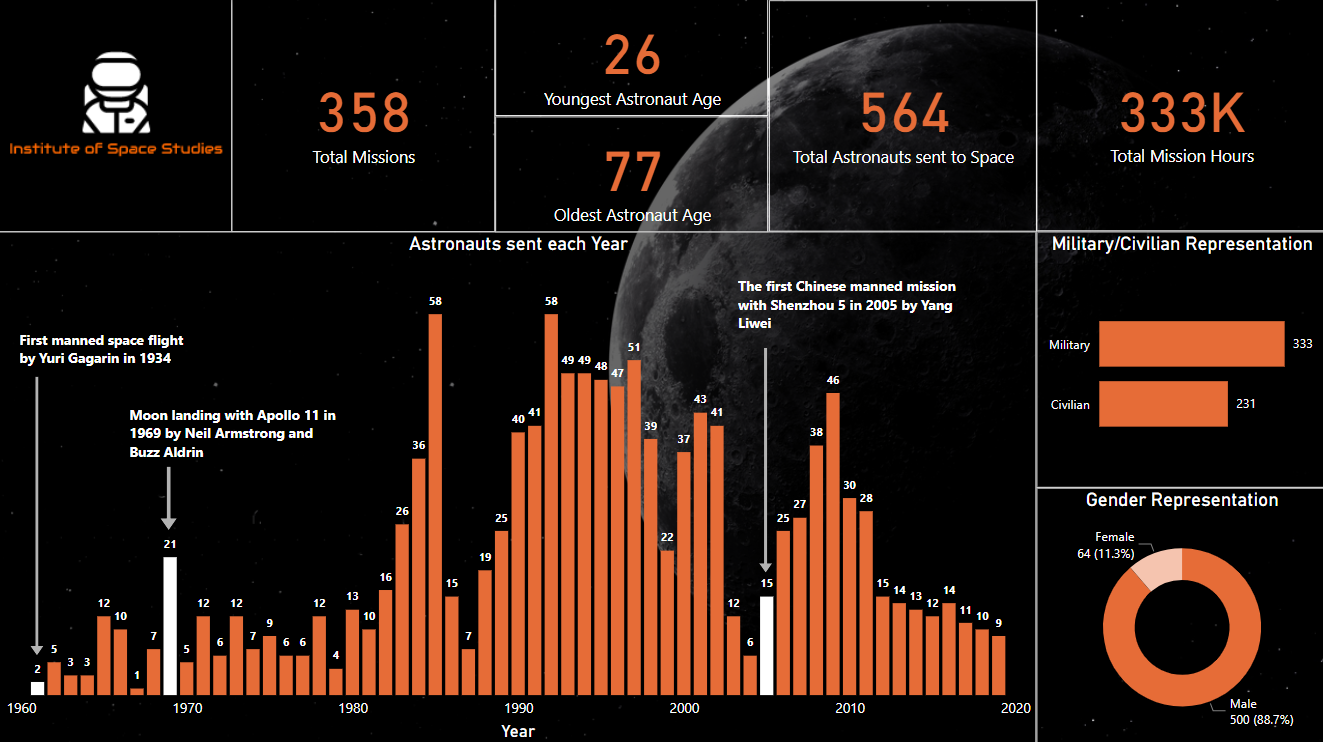

Layout of this report page (visuals, bound fields, positions):
{"tool":"powerbi","page":{"name":"Dashboard","canvas":[1280,720],"ordinal":0},"visuals":[{"type":"image","box":[0,0,224.9,224.9],"z":0},{"type":"card","fields":{"Values":["astronauts.mission_title"]},"box":[224.9,0,254.3,224.9],"z":1000},{"type":"card","fields":{"Values":["astronauts.Age of astronaut"]},"box":[478.8,0,263.6,113],"z":2000},{"type":"card","fields":{"Values":["astronauts.Age of astronaut"]},"box":[478.8,113,263.6,111.6],"z":3000},{"type":"barChart","title":"Military/Civilian Representation","fields":{"Category":["names.Military/Civilian"],"Y":["astronauts.name"]},"box":[1001,224.3,279.8,247.2],"z":4000},{"type":"card","fields":{"Values":["astronauts.name"]},"box":[742.9,1.2,258.1,223.1],"z":5000},{"type":"donutChart","title":"Gender Representation","fields":{"Y":["astronauts.name"],"Category":["astronauts.sex"]},"box":[1000.5,472,279.7,247.4],"z":6000},{"type":"card","fields":{"Values":["Mission.Hours"]},"box":[1001,0,279.8,224.3],"z":7000},{"type":"clusteredColumnChart","title":"Astronauts sent each Year","fields":{"Y":["astronauts.name"],"Category":["astronauts.year_of_mission"]},"box":[0,224.6,1000.5,494.9],"z":8000},{"type":"shape","box":[30,363.7,12.9,269.1],"z":9000},{"type":"shape","box":[155.7,451.4,16.3,61.4],"z":10000},{"type":"shape","box":[733.7,336.9,12.9,217.1],"z":11000},{"type":"textbox","box":[14.6,315.1,181.4,54.3],"z":12000},{"type":"textbox","box":[120.6,386.9,215.7,65.7],"z":13000},{"type":"textbox","box":[708,263.4,225.7,78.6],"z":14000}]}

Visuals, with their boxes in screenshot pixels (x1, y1, x2, y2), scaled from the page's 1280x720 canvas onto the 1323x742 screenshot:
image: [x1=0, y1=0, x2=232, y2=232]
card - astronauts.mission_title: [x1=232, y1=0, x2=495, y2=232]
card - astronauts.Age of astronaut: [x1=495, y1=0, x2=767, y2=116]
card - astronauts.Age of astronaut: [x1=495, y1=116, x2=767, y2=231]
"Military/Civilian Representation" barChart: [x1=1035, y1=231, x2=1322, y2=486]
card - astronauts.name: [x1=768, y1=1, x2=1035, y2=231]
"Gender Representation" donutChart: [x1=1034, y1=486, x2=1322, y2=741]
card - Mission.Hours: [x1=1035, y1=0, x2=1322, y2=231]
"Astronauts sent each Year" clusteredColumnChart: [x1=0, y1=231, x2=1034, y2=741]
shape: [x1=31, y1=375, x2=44, y2=652]
shape: [x1=161, y1=465, x2=178, y2=528]
shape: [x1=758, y1=347, x2=772, y2=571]
textbox: [x1=15, y1=325, x2=203, y2=381]
textbox: [x1=125, y1=399, x2=348, y2=466]
textbox: [x1=732, y1=271, x2=965, y2=352]
